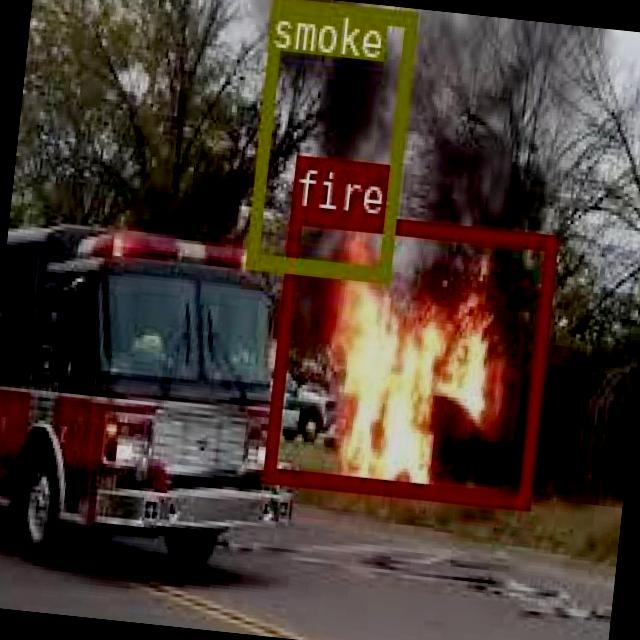fire: (262, 205, 554, 506)
smoke: (244, 0, 413, 278)
